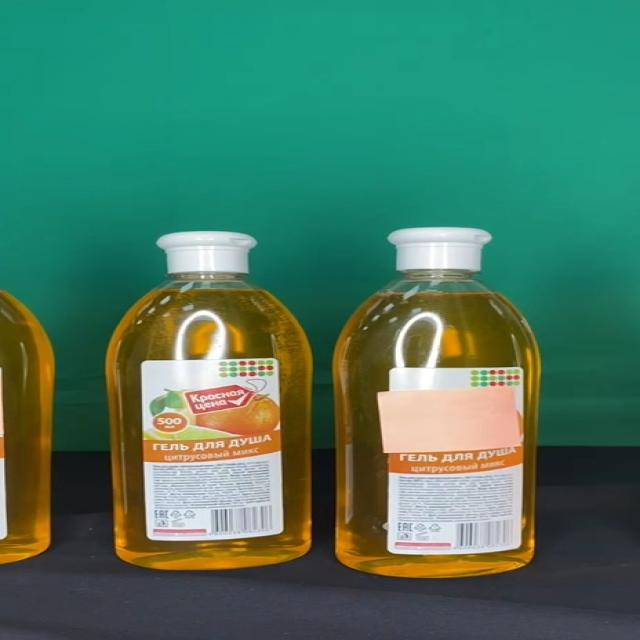Bottle: (334, 226, 542, 578), (107, 230, 314, 569)
Cap: (387, 228, 491, 271), (156, 231, 259, 273)
